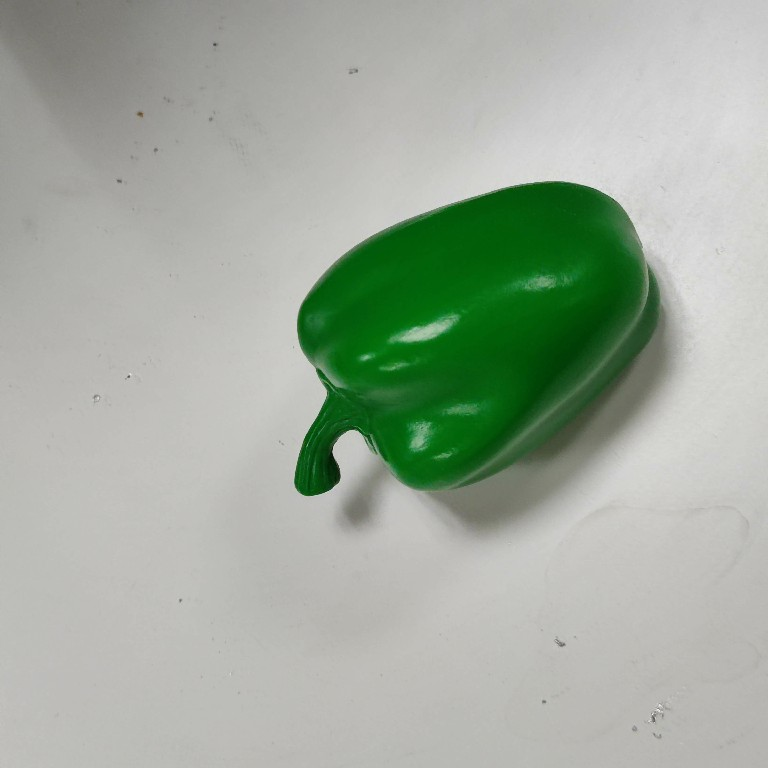fruit_pepper: (284, 176, 664, 509)
